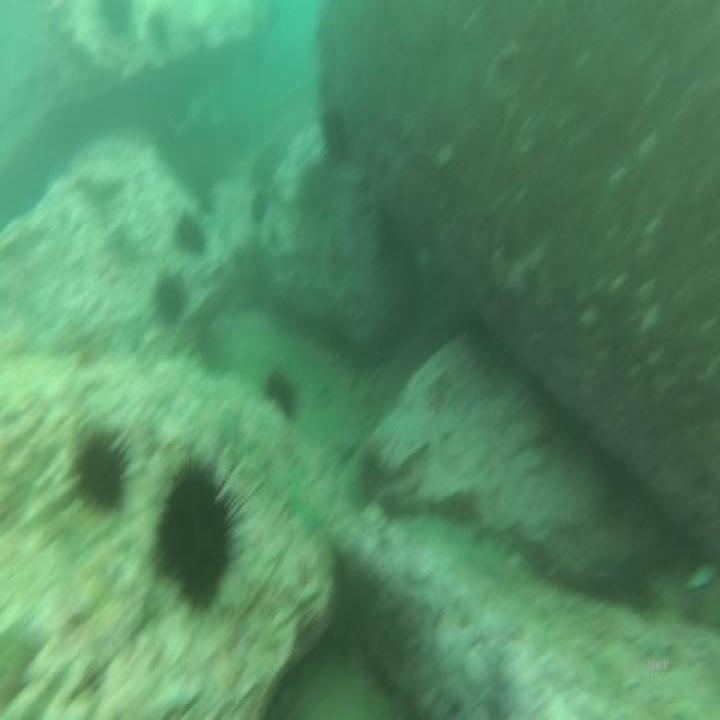echinus: (153, 459, 239, 617), (72, 425, 130, 523), (151, 270, 191, 342), (263, 359, 299, 427), (321, 100, 351, 166), (176, 206, 204, 263)
